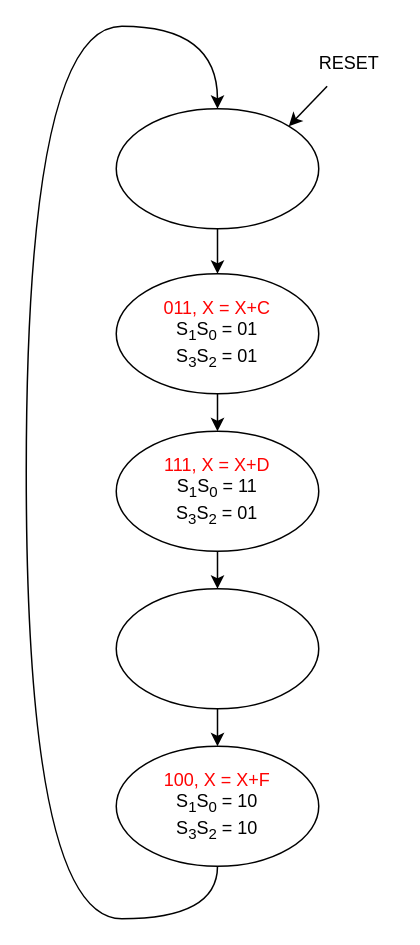
This 420x945 diagram has some shape labels left out. The centre of each missing label's shape, as x and y in pixels:
"000, X = A+B S 1 S 0 = 00 S 3 S 2 = 00" goes at (217,168).
"101, X = X+E S 1 S 0 = 10 S 3 S 2 = 11" goes at (217,648).
